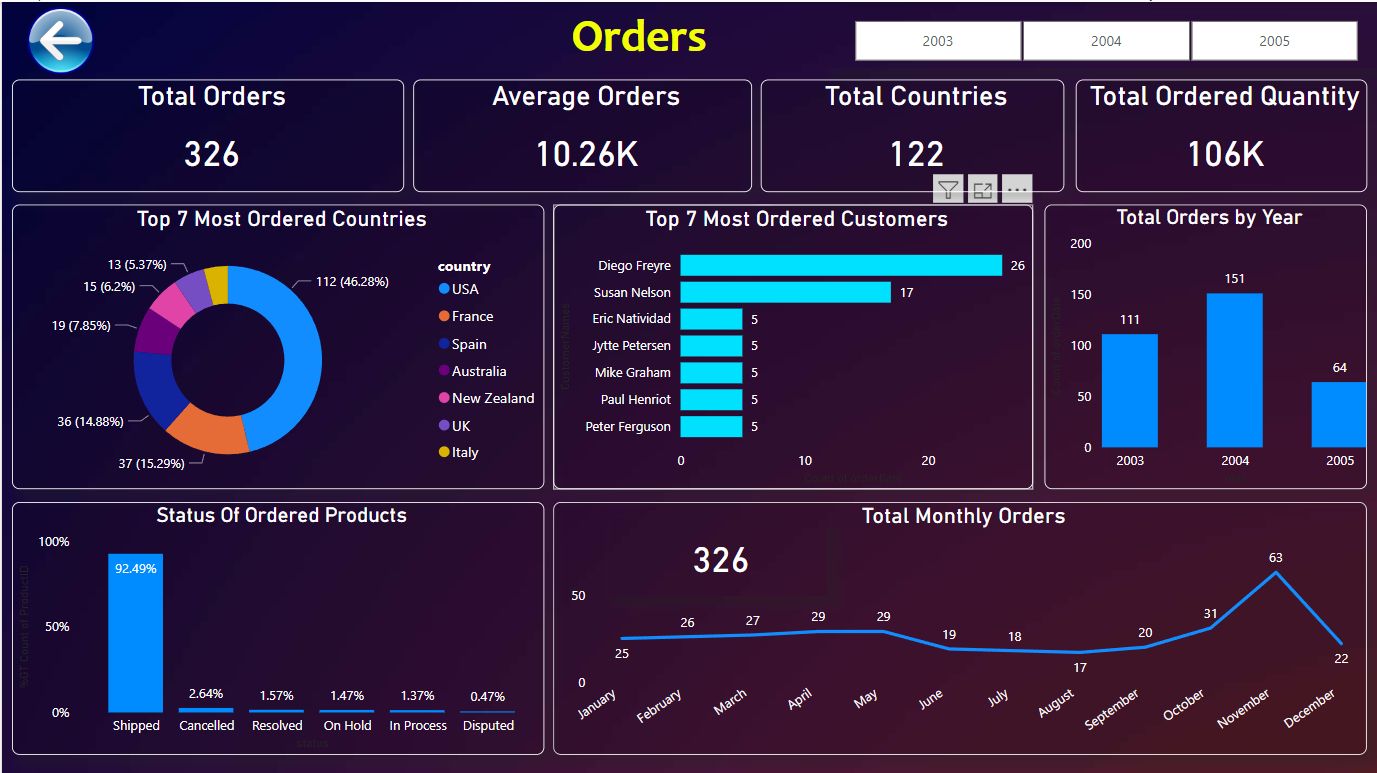

This screenshot's page, from the dashboard's own definition file:
{"tool":"powerbi","page":{"name":"Page 3","canvas":[1280,720],"ordinal":2},"visuals":[{"type":"lineChart","title":"Total Monthly Orders","fields":{"Category":["DATE.MonthName"],"Y":["Orders.orderDate"]},"box":[512.8,465.1,757,234.9],"z":0},{"type":"donutChart","title":"Top 7 Most Ordered Countries","fields":{"Category":["Customers.country"],"Y":["Orders.OrderID"]},"box":[9.3,188.4,495.4,265.1],"z":1000},{"type":"card","title":"Total Orders","fields":{"Values":["Orders.OrderID"]},"box":[9.3,72.1,365.1,104.7],"z":2000},{"type":"textbox","box":[524.4,0,141.9,61.6],"z":3000},{"type":"clusteredBarChart","title":"Top 7 Most Ordered Customers","fields":{"Category":["Customers.CustomerNames"],"Y":["Orders.orderDate"]},"box":[512.8,188.4,446.5,265.1],"z":4000},{"type":"columnChart","title":"Total Orders by Year","fields":{"Category":["DATE.Year"],"Y":["Orders.orderDate"]},"box":[969.8,188.4,300,265.1],"z":5000},{"type":"card","title":"Total Orders","fields":{"Values":["Orders.OrderID"]},"box":[565.1,480.2,202.3,72.1],"z":6000},{"type":"slicer","fields":{"Values":["DATE.Year"]},"box":[767.4,10.5,512.8,51.2],"z":7000},{"type":"card","title":"Average Orders","fields":{"Values":["Orders.OrderID"]},"box":[382.6,72.1,315.1,104.7],"z":8000},{"type":"card","title":"Total Countries","fields":{"Values":["Customers.country"]},"box":[705.8,72.1,282.6,104.7],"z":9000},{"type":"card","title":"Total Ordered Quantity","fields":{"Values":["Orderdetails.QuantityOrdered"]},"box":[998.8,72.1,270.9,104.7],"z":10000},{"type":"image","box":[16.3,0,76.7,72.1],"z":11000},{"type":"columnChart","title":"Status Of Ordered Products","fields":{"Category":["Orders.status"],"Y":["Orderdetails.ProductID"]},"box":[9,465,495,235],"z":12000}]}

Visuals, with their boxes in screenshot pixels (x1, y1, x2, y2), scaled from the page's 1280x720 canvas onto the 1377x773 screenshot:
"Total Monthly Orders" lineChart: 552,499,1366,752
"Top 7 Most Ordered Countries" donutChart: 10,202,543,487
"Total Orders" card: 10,77,403,190
textbox: 564,0,717,66
"Top 7 Most Ordered Customers" clusteredBarChart: 552,202,1032,487
"Total Orders by Year" columnChart: 1043,202,1366,487
"Total Orders" card: 608,516,826,593
slicer - DATE.Year: 826,11,1376,66
"Average Orders" card: 412,77,751,190
"Total Countries" card: 759,77,1063,190
"Total Ordered Quantity" card: 1074,77,1366,190
image: 18,0,100,77
"Status Of Ordered Products" columnChart: 10,499,542,752
